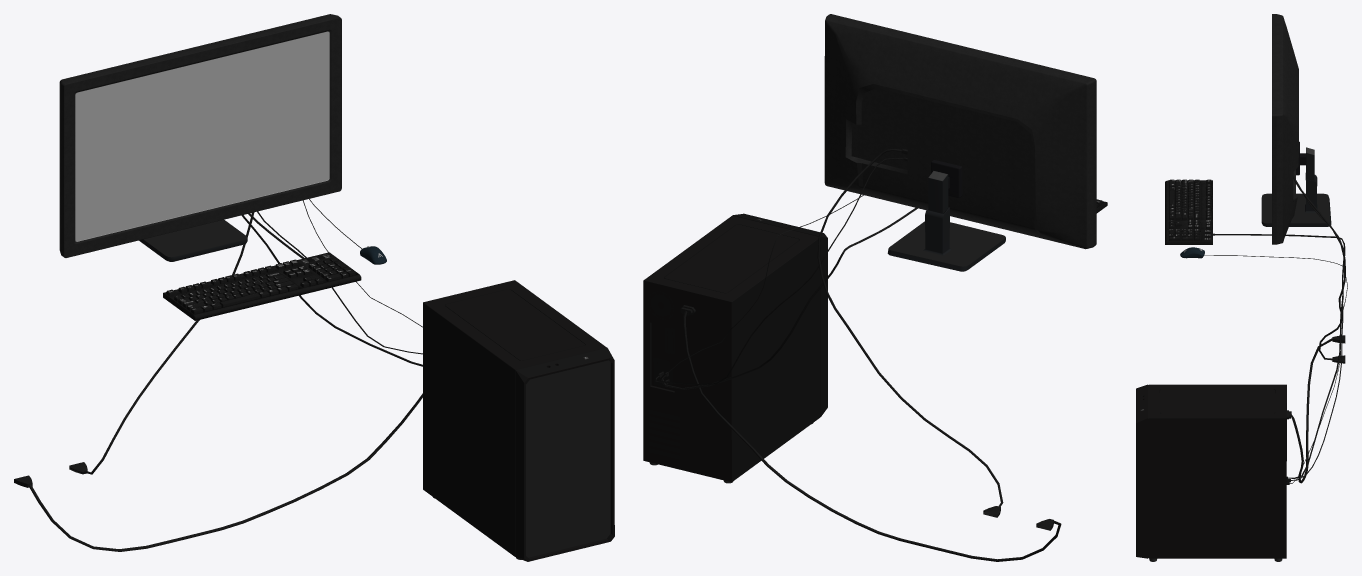
The model's file is kompp.fbx.
3 views of the same model, side by side, from view 1: azimuth 30°, elevation 25°; view 2: azimuth 150°, elevation 25°; view 3: azimuth 270°, elevation 25° (orthographic). The views are drawn at different scales.
Visible parts, largest first — view 1: komp, screen; view 2: komp; view 3: komp.
Boxes of the visible parts, x1=… form: komp: x1=14, y1=14, x2=614, y2=561; screen: x1=75, y1=31, x2=329, y2=241; komp: x1=643, y1=14, x2=1107, y2=561; komp: x1=1136, y1=14, x2=1347, y2=561.
Bounding box in the file's own units: 1.29 × 1.35 × 0.6803.
2 materials, 1 textured.
